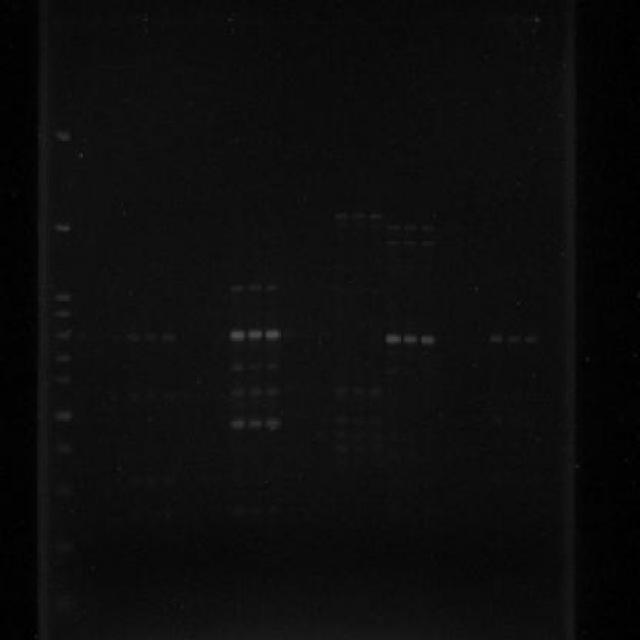B: (418, 332, 437, 346), (386, 333, 402, 347), (266, 416, 282, 430), (264, 329, 281, 342), (228, 328, 246, 340), (402, 334, 420, 346), (506, 332, 522, 345), (230, 361, 246, 374), (246, 362, 262, 375), (159, 330, 176, 342), (229, 418, 246, 430), (142, 331, 160, 342), (487, 333, 505, 344), (248, 329, 263, 342), (231, 386, 246, 399), (245, 282, 262, 293), (264, 283, 281, 294), (264, 388, 282, 398), (248, 388, 263, 400), (248, 418, 263, 430), (521, 333, 537, 344), (125, 332, 142, 342), (402, 238, 418, 248), (420, 238, 436, 248), (264, 361, 278, 372), (230, 284, 244, 294), (420, 223, 436, 231), (401, 223, 417, 231), (384, 238, 400, 246), (368, 212, 383, 220), (352, 212, 366, 220), (334, 212, 348, 220), (386, 223, 400, 231)
M: (44, 108, 84, 630)
P: (55, 593, 77, 613), (53, 540, 75, 560), (53, 482, 75, 502), (56, 440, 76, 460), (53, 372, 73, 390), (52, 126, 74, 142), (53, 408, 73, 424), (53, 306, 72, 322), (53, 220, 72, 236), (54, 328, 72, 344), (52, 353, 72, 367), (53, 289, 72, 303)
